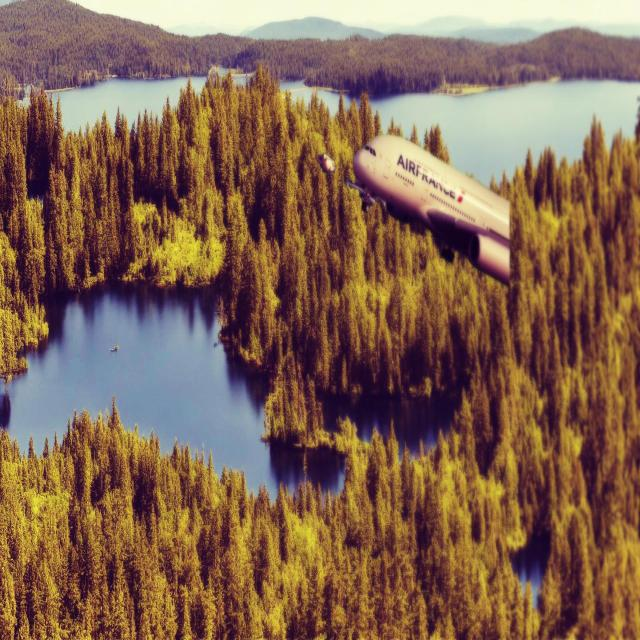airplane: (351, 133, 511, 286)
